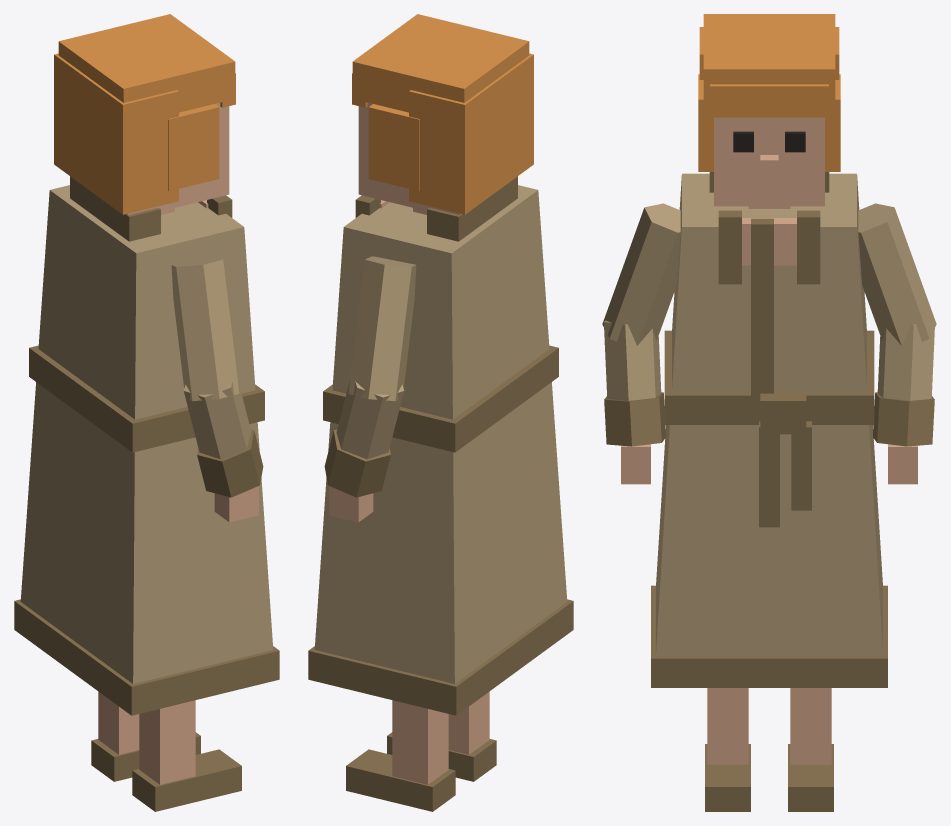
The model's file is Mod.glb.
3 views of the same model, side by side, from view 1: azimuth 30°, elevation 25°; view 2: azimuth 150°, elevation 25°; view 3: azimuth 270°, elevation 25° (orthographic).
Parts seen in each view (by area): view 1: Mod_robe, Mod_mod_hair, Mod_robe_trim, Mod_skin; view 2: Mod_robe, Mod_mod_hair, Mod_robe_trim, Mod_skin; view 3: Mod_robe, Mod_robe_trim, Mod_skin, Mod_mod_hair, Mod_eye.
Part boxes in pixels (x1,y1,x2,y2): Mod_robe: (20,185,273,683); Mod_mod_hair: (54,14,235,214); Mod_robe_trim: (14,176,279,811); Mod_skin: (98,102,258,784); Mod_robe: (314,185,567,683); Mod_mod_hair: (352,14,533,214); Mod_robe_trim: (308,176,573,811); Mod_skin: (329,102,489,784); Mod_robe: (602,173,936,656); Mod_robe_trim: (604,172,934,811); Mod_skin: (621,117,917,764); Mod_mod_hair: (698,14,840,171); Mod_eye: (733,131,805,152).
Size of the model in its own units: 0.3925 by 1.77 by 0.7256.
